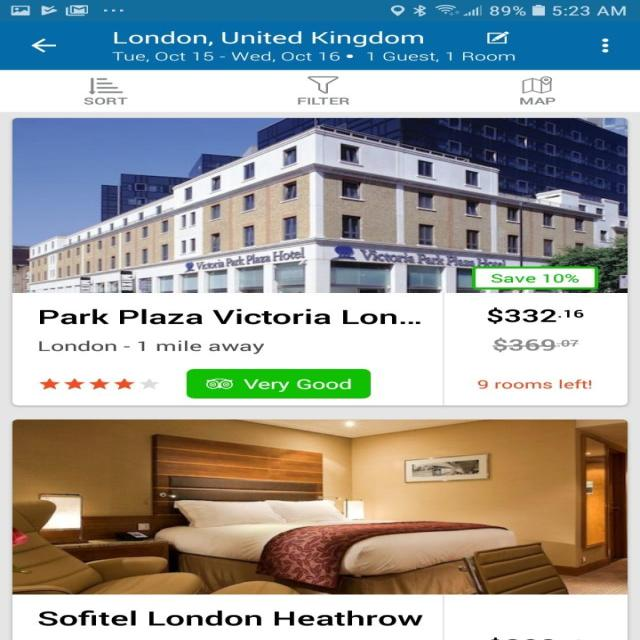Icon: (39, 378, 160, 390), (88, 78, 124, 95), (522, 76, 552, 93), (30, 38, 57, 53), (486, 31, 510, 44), (599, 36, 609, 53)
Image: (11, 419, 626, 594), (11, 118, 626, 293), (306, 76, 338, 94)
Text: (37, 609, 423, 626), (39, 308, 421, 325), (113, 30, 423, 48), (111, 52, 515, 62), (38, 340, 264, 354), (486, 307, 583, 324), (490, 337, 578, 352), (475, 378, 593, 389), (296, 96, 349, 105), (84, 97, 128, 105), (519, 96, 556, 105)
TextButton: (186, 368, 370, 399)
